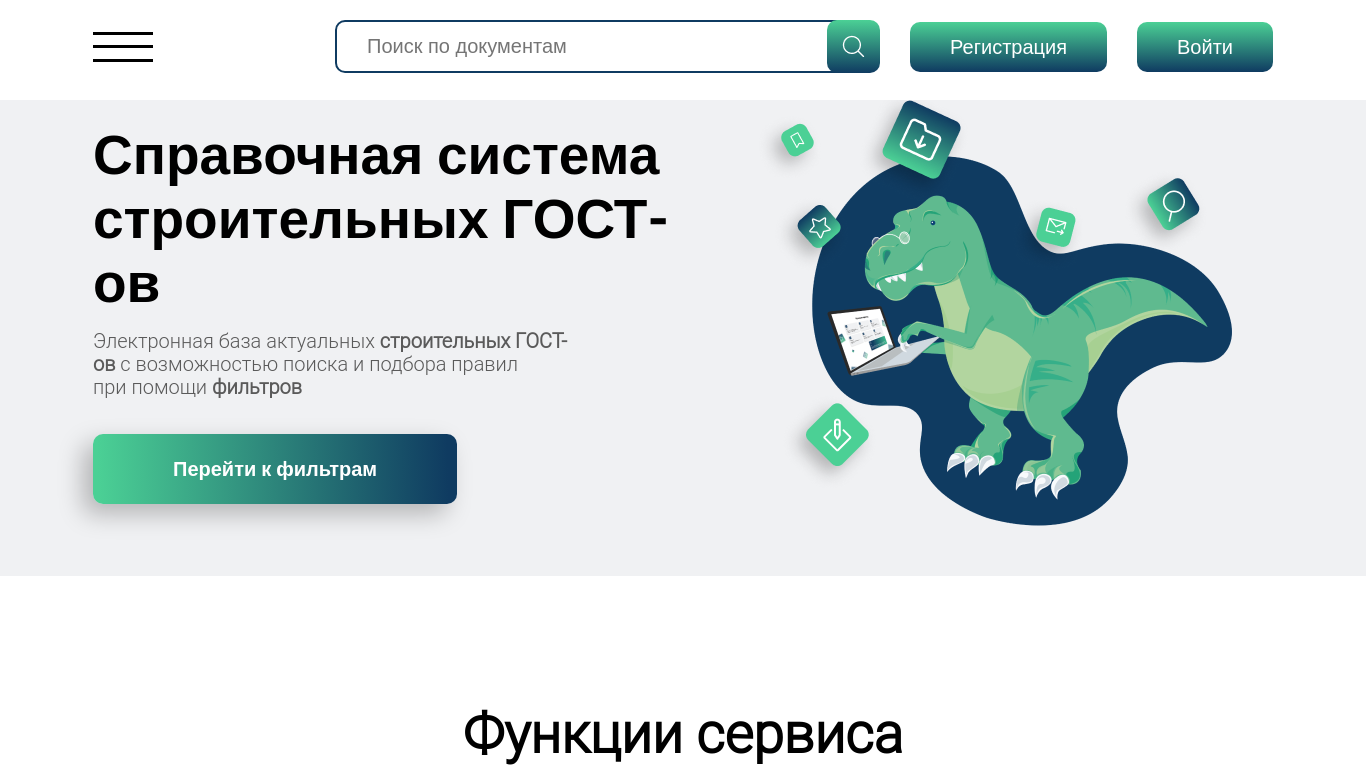
Test: Тестирование навигации › Главная страница -> поиск документов
This screenshot has width=1366, height=768.
Click the link with test id "search-button" at (854, 46), box [827,20,880,73]
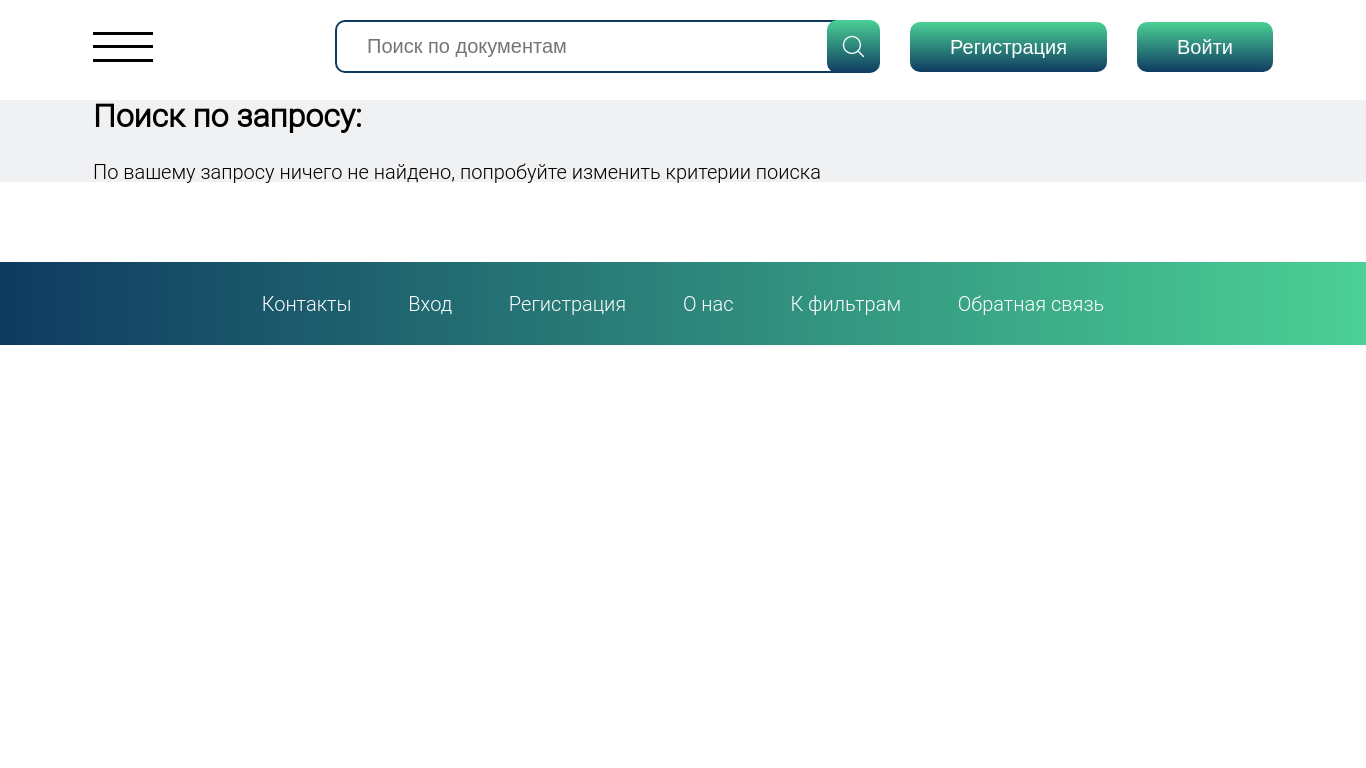
Check: the heading "Поиск по запросу:" is shown, box [93,97,362,135]
